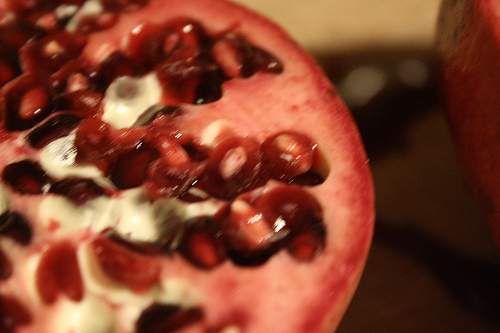pomogranate: (1, 0, 375, 332)
